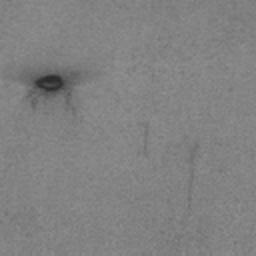Iron sheet ash: (36, 74, 64, 92)
